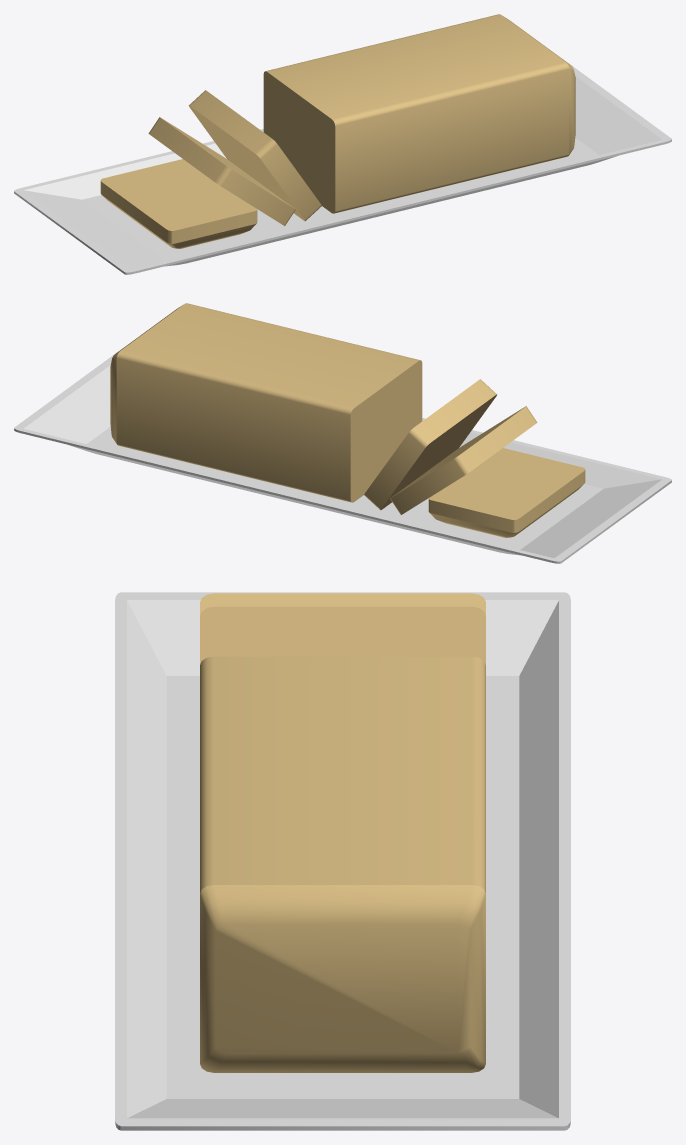
The model's file is butter.fbx.
3 renders of one model, top to bottom at view 1: azimuth 30°, elevation 25°; view 2: azimuth 150°, elevation 25°; view 3: azimuth 270°, elevation 25°, orthographic. The views are drawn at different scales.
Parts seen in each view (by area): view 1: Cube, Plane, Cube.001, Cube.003, Cube.002; view 2: Cube, Plane, Cube.001, Cube.003, Cube.002; view 3: Cube, Plane, Cube.003, Cube.002.
Boxes of the visible parts, x1,y1,x2,y2 form: Cube: (263,14,575,213); Plane: (14,58,671,274); Cube.001: (100,159,257,248); Cube.003: (188,90,321,221); Cube.002: (148,117,295,225); Cube: (110,303,422,502); Plane: (14,347,671,563); Cube.001: (428,448,585,537); Cube.003: (364,379,497,510); Cube.002: (390,406,537,514); Cube: (200,656,485,1072); Plane: (115,592,570,1130); Cube.003: (200,606,485,664); Cube.002: (200,593,485,615).
Size of the model in its own units: 1219 by 205 by 439.
Materials: 1 (1 with a texture image).
